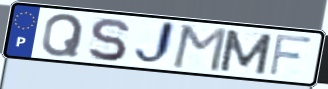F: (266, 32, 315, 78)
J: (132, 19, 178, 68)
M: (169, 24, 230, 74), (217, 28, 276, 76)
Q: (39, 12, 86, 58)
S: (86, 16, 131, 63)
